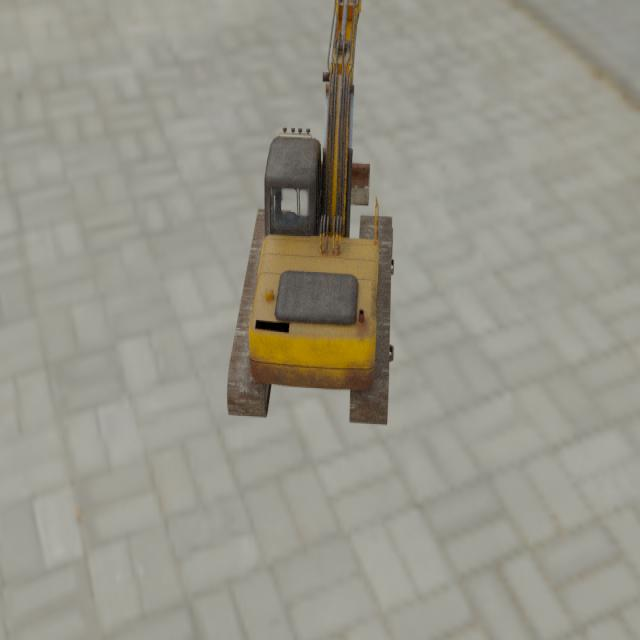excavator: (226, 0, 394, 427)
